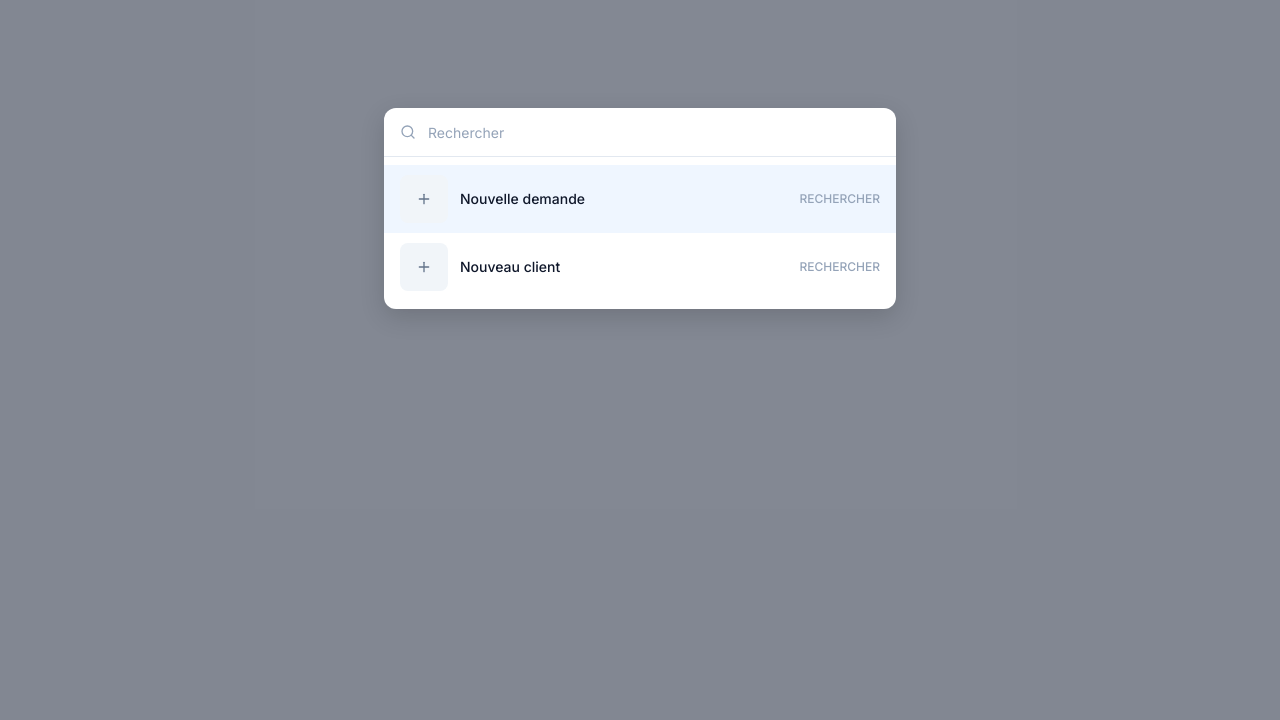
CommandPalette › filters applications by typed id and shows its amount
Type "app-x" into the search field at (654, 132), box [428,108,880,156]
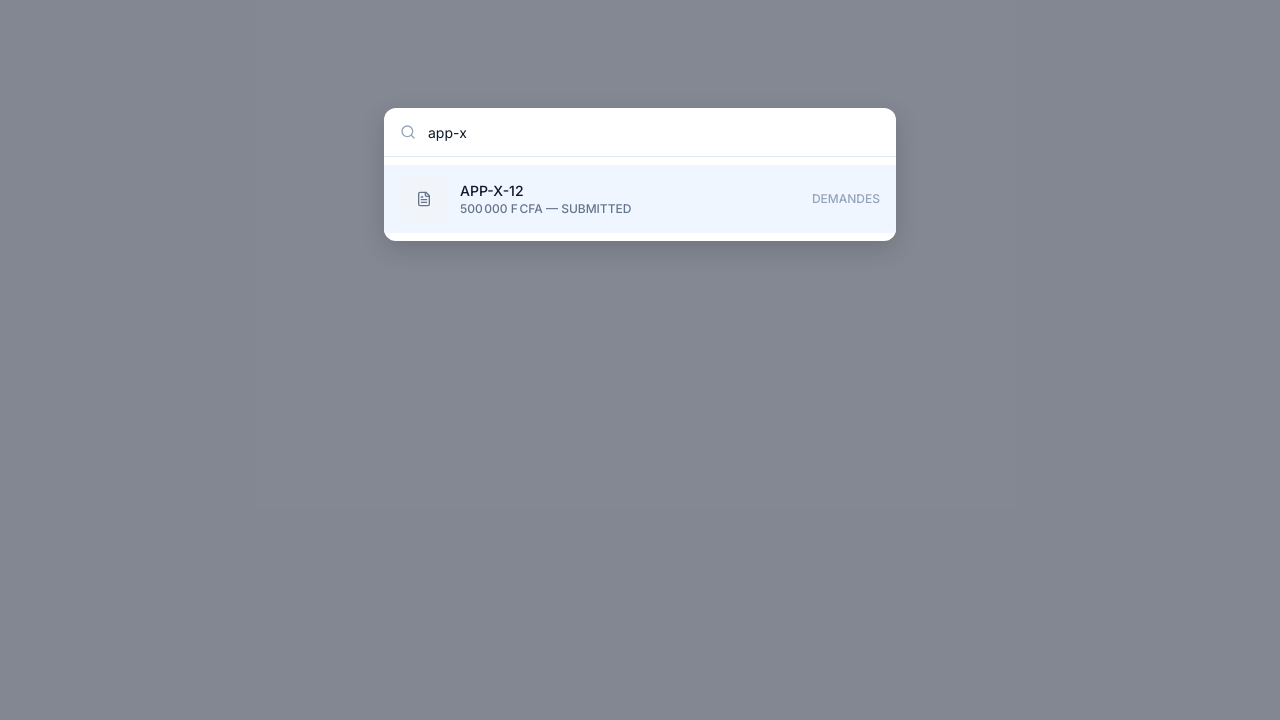
Expected: the text "APP-X-12" is shown, [460,182,524,199]
Expected: the text "500 000" is shown, [460,201,631,216]
